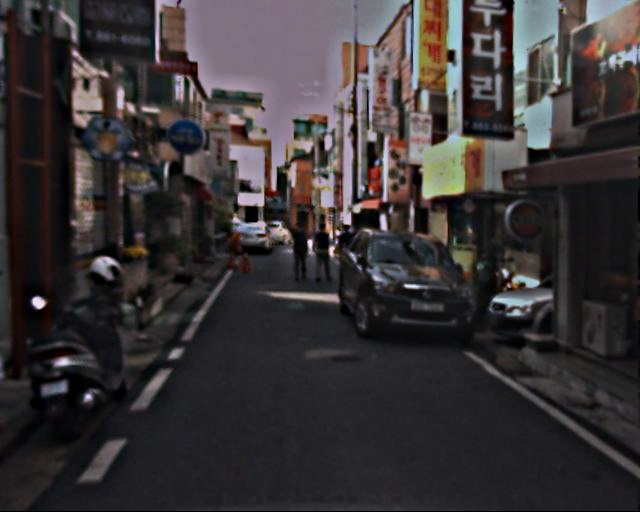person: (288, 220, 314, 283), (312, 221, 337, 282), (334, 222, 359, 283)
